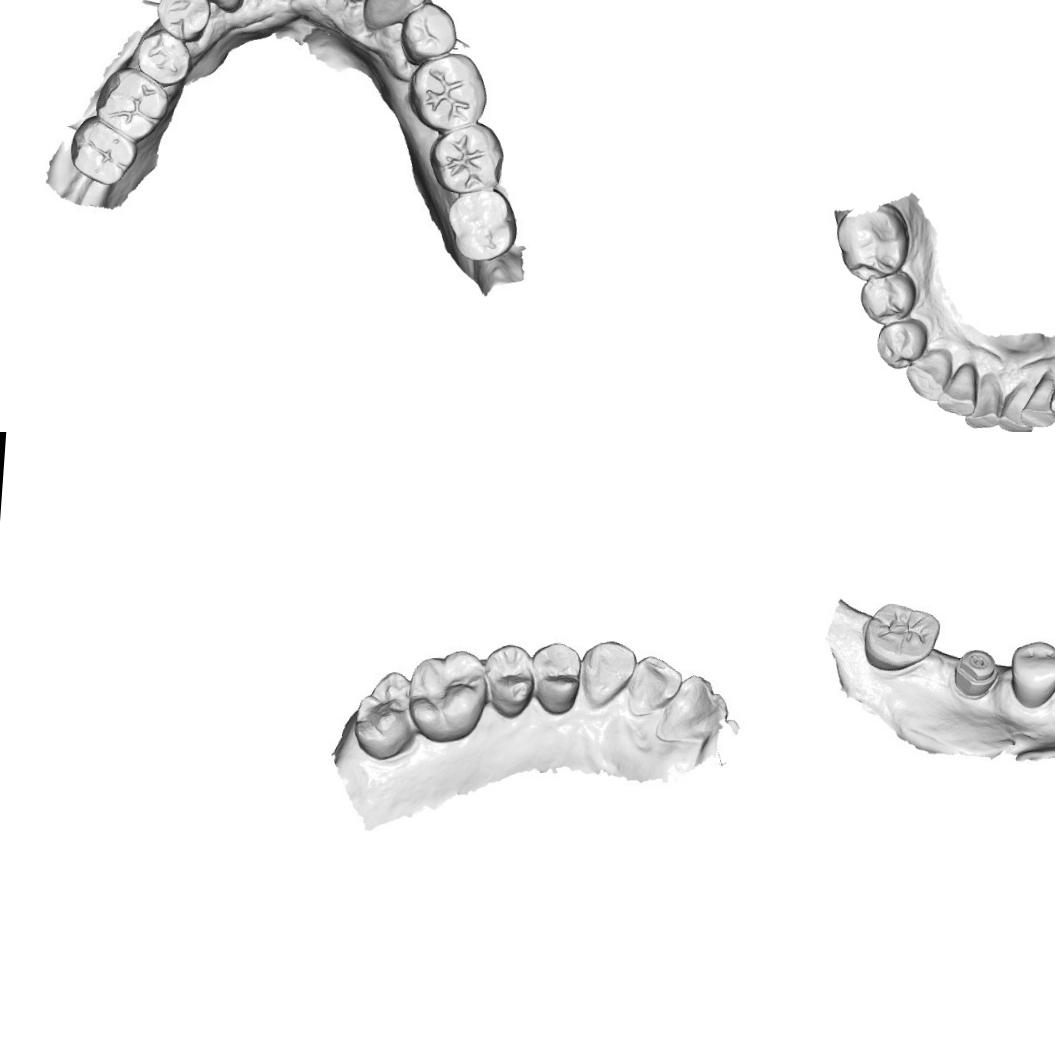canine: (576, 636, 640, 710), (902, 345, 956, 404), (361, 0, 425, 28)
implant_minus: (946, 647, 1001, 698)
incisor: (659, 670, 723, 748), (626, 654, 676, 718), (934, 360, 980, 418), (963, 370, 1006, 432), (1017, 367, 1055, 429), (996, 376, 1037, 432)
molar: (350, 667, 430, 767), (407, 648, 489, 741), (859, 596, 944, 676), (832, 201, 909, 282), (69, 119, 140, 190), (433, 122, 503, 193), (447, 188, 514, 258), (101, 70, 166, 140), (417, 62, 482, 126)
premolar: (524, 640, 586, 707), (399, 0, 455, 66), (1006, 636, 1055, 711), (872, 313, 932, 374), (486, 644, 534, 720), (857, 268, 920, 324), (139, 35, 189, 89), (157, 0, 213, 42)
